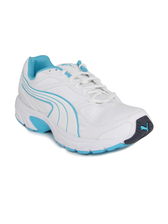shoes: (11, 55, 159, 156)
